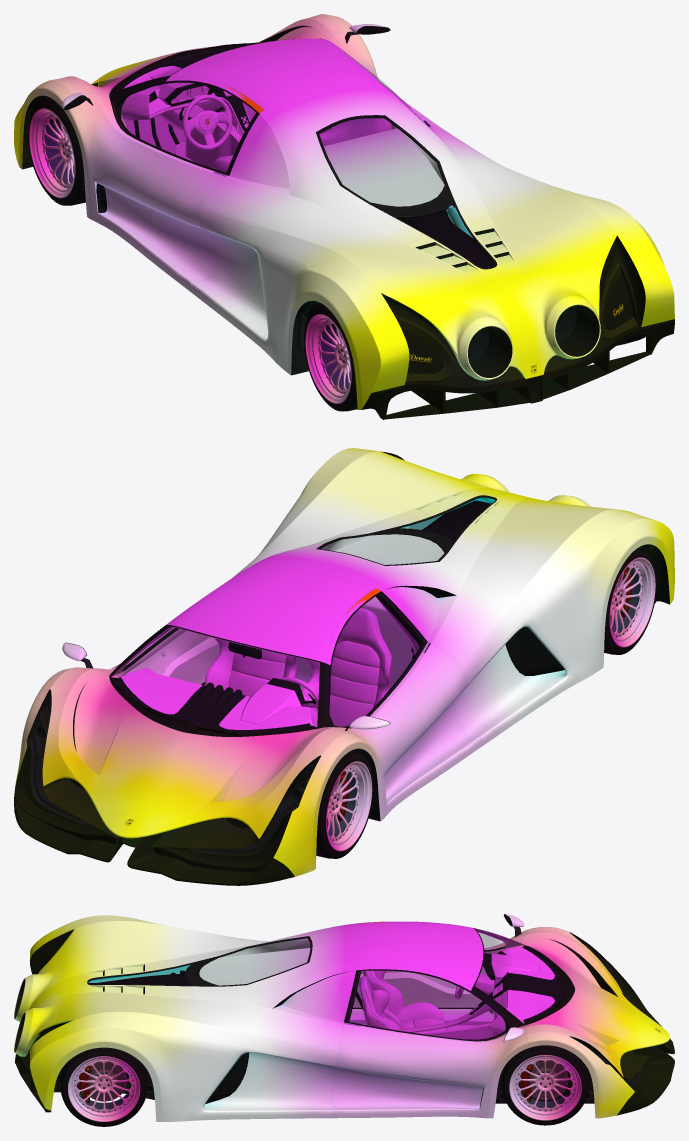
File: deveste.glb
3 views of the same model, one above another, from view 1: azimuth 30°, elevation 25°; view 2: azimuth 150°, elevation 25°; view 3: azimuth 270°, elevation 25° (orthographic). The views are drawn at different scales.
Parts seen in each view (by area): view 1: bodyshell, chassis, door_dside_f, window_lf, windscreen_r, misc_d, wheel_lf, wheel_lr, door_pside_f, steeringwheel, misc_t; view 2: bodyshell, chassis, door_dside_f, window_lf, wheel_lf, door_pside_f, wheel_lr, windscreen_r, windscreen, misc_t; view 3: bodyshell, door_pside_f, chassis, window_rf, wheel_rf, wheel_rr, windscreen_r, door_dside_f, windscreen, misc_t, misc_d.
Part boxes in pixels (x1,y1,x2,y2): bodyshell: (14, 14, 674, 409); chassis: (111, 42, 623, 373); door_dside_f: (62, 77, 264, 290); window_lf: (113, 82, 254, 172); windscreen_r: (320, 117, 444, 205); misc_d: (361, 319, 674, 419); wheel_lf: (28, 97, 85, 205); wheel_lr: (304, 303, 357, 411); door_pside_f: (327, 24, 451, 134); steeringwheel: (179, 94, 232, 150); misc_t: (115, 89, 453, 215); bodyshell: (14, 448, 674, 885); chassis: (30, 497, 495, 854); door_dside_f: (324, 588, 481, 821); window_lf: (330, 595, 424, 726); wheel_lf: (316, 750, 373, 858); door_pside_f: (62, 560, 264, 684); wheel_lr: (604, 547, 656, 654); windscreen_r: (321, 533, 444, 564); windscreen: (159, 627, 319, 674); misc_t: (109, 528, 453, 736); bodyshell: (14, 915, 674, 1121); door_pside_f: (332, 965, 529, 1118); chassis: (88, 929, 660, 1084); window_rf: (349, 971, 510, 1039); wheel_rf: (501, 1045, 589, 1125); wheel_rr: (60, 1047, 147, 1126); windscreen_r: (199, 938, 309, 984); door_dside_f: (353, 914, 527, 1007); windscreen: (475, 930, 500, 992); misc_t: (186, 956, 574, 1025); misc_d: (15, 1054, 123, 1112).
Size of the model in its own units: 2.24 by 1.1 by 4.98.
Materials: 22 (15 with a texture image).
